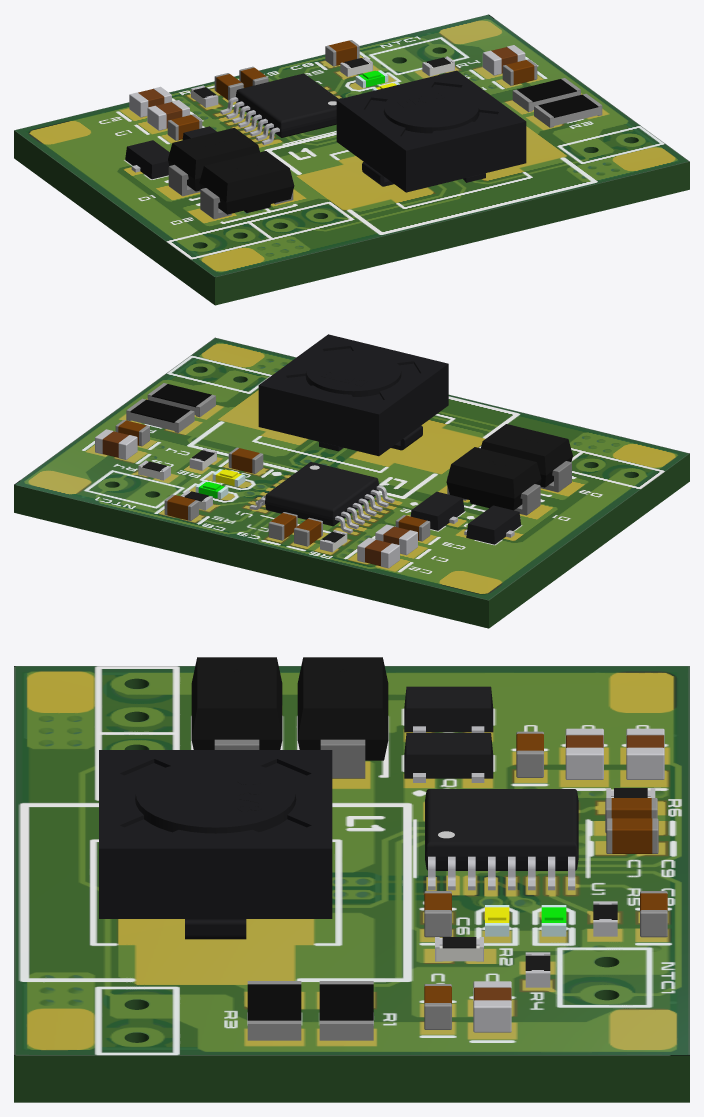
The model's file is eml02-no-headers.glb.
3 renders of one model, top to bottom at view 1: azimuth 30°, elevation 25°; view 2: azimuth 150°, elevation 25°; view 3: azimuth 270°, elevation 25°, orthographic. The views are drawn at different scales.
Visible parts, largest first — view 1: Board:Open CASCADE STEP translator 7.5 1.1.1, L1:Cooper Bussman DR73 Series Inductor, U1:, D2:Littelfuse SMAJ6.0A1, D1:Littelfuse SMAJ6.0A1, Q1:, R3:Mark, R1:Mark, D1:Littelfuse SMAJ6.0A 2, D2:Littelfuse SMAJ6.0A 2, C4:Open CASCADE STEP translator 6.8 3.2.1, C8:Open CASCADE STEP translator 6.8 3.2.1; view 2: Board:Open CASCADE STEP translator 7.5 1.1.1, L1:Cooper Bussman DR73 Series Inductor, U1:, D1:Littelfuse SMAJ6.0A1, D2:Littelfuse SMAJ6.0A1, Q1:, Q2:, R1:Mark, R3:Mark, D2:Littelfuse SMAJ6.0A 2, D1:Littelfuse SMAJ6.0A 2, C6:Open CASCADE STEP translator 6.8 3.2.1 (+1 smaller); view 3: Board:Open CASCADE STEP translator 7.5 1.1.1, L1:Cooper Bussman DR73 Series Inductor, U1:, D1:Littelfuse SMAJ6.0A1, D2:Littelfuse SMAJ6.0A1, Q1:, Q2:, R3:Mark, R1:Mark, D1:Littelfuse SMAJ6.0A 2_MIR1, C7:Open CASCADE STEP translator 6.8 3.2.1, C5: (+10 smaller).
Boxes of the visible parts, left/top/right/bottom form: Board:Open CASCADE STEP translator 7.5 1.1.1: left=14, top=14, right=689, bottom=305; L1:Cooper Bussman DR73 Series Inductor: left=336, top=70, right=526, bottom=192; U1:: left=235, top=73, right=338, bottom=137; D2:Littelfuse SMAJ6.0A1: left=199, top=151, right=294, bottom=214; D1:Littelfuse SMAJ6.0A1: left=168, top=128, right=259, bottom=191; Q1:: left=125, top=140, right=169, bottom=179; R3:Mark: left=538, top=94, right=598, bottom=117; R1:Mark: left=517, top=79, right=576, bottom=101; D1:Littelfuse SMAJ6.0A 2: left=168, top=164, right=200, bottom=196; D2:Littelfuse SMAJ6.0A 2: left=200, top=188, right=231, bottom=219; C4:Open CASCADE STEP translator 6.8 3.2.1: left=506, top=60, right=534, bottom=84; C8:Open CASCADE STEP translator 6.8 3.2.1: left=328, top=40, right=356, bottom=65; Board:Open CASCADE STEP translator 7.5 1.1.1: left=14, top=337, right=689, bottom=628; L1:Cooper Bussman DR73 Series Inductor: left=258, top=334, right=448, bottom=456; U1:: left=265, top=462, right=378, bottom=526; D1:Littelfuse SMAJ6.0A1: left=446, top=447, right=541, bottom=510; D2:Littelfuse SMAJ6.0A1: left=481, top=424, right=572, bottom=487; Q1:: left=466, top=505, right=521, bottom=544; Q2:: left=410, top=491, right=464, bottom=530; R1:Mark: left=130, top=399, right=190, bottom=422; R3:Mark: left=151, top=384, right=211, bottom=407; D2:Littelfuse SMAJ6.0A 2: left=540, top=461, right=571, bottom=492; D1:Littelfuse SMAJ6.0A 2: left=514, top=484, right=540, bottom=515; C6:Open CASCADE STEP translator 6.8 3.2.1: left=231, top=448, right=259, bottom=473; Board:Open CASCADE STEP translator 7.5 1.1.1: left=14, top=666, right=689, bottom=1102; L1:Cooper Bussman DR73 Series Inductor: left=99, top=750, right=332, bottom=939; U1:: left=425, top=789, right=578, bottom=870; D1:Littelfuse SMAJ6.0A1: left=297, top=657, right=388, bottom=760; D2:Littelfuse SMAJ6.0A1: left=191, top=657, right=282, bottom=749; Q1:: left=404, top=686, right=493, bottom=732; Q2:: left=404, top=733, right=493, bottom=778; R3:Mark: left=247, top=984, right=301, bottom=1020; R1:Mark: left=319, top=984, right=373, bottom=1020; D1:Littelfuse SMAJ6.0A 2_MIR1: left=320, top=739, right=365, bottom=778; C7:Open CASCADE STEP translator 6.8 3.2.1: left=612, top=818, right=652, bottom=853; C5:: left=473, top=1000, right=511, bottom=1032.
Size of the model in its own units: 0.03 by 0.00525 by 0.022.
Materials: 20 (1 with a texture image).
